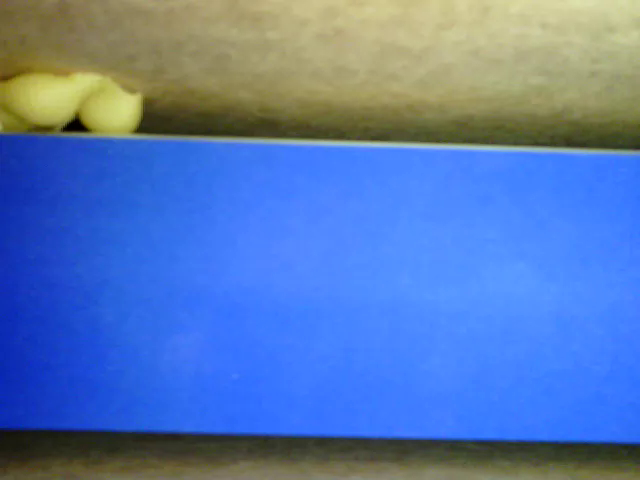shell: (1, 64, 104, 123), (75, 73, 145, 136), (1, 110, 79, 134)
